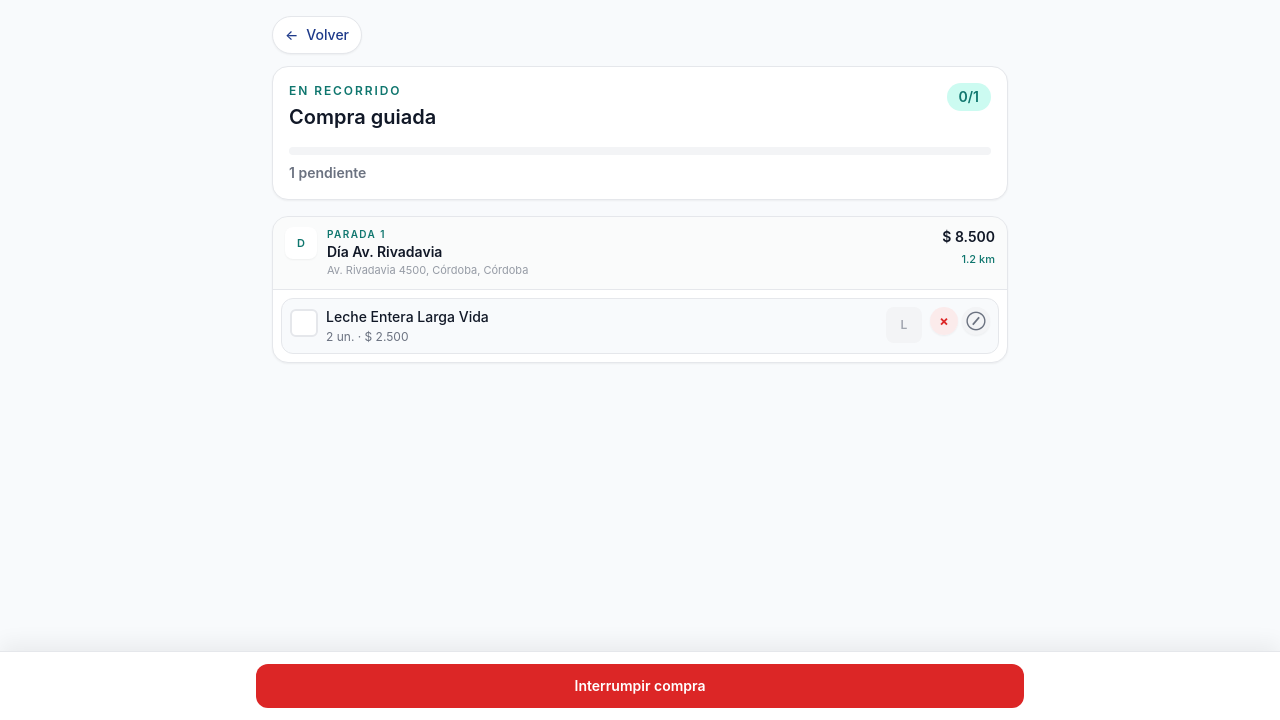
UI reference pages › shows missing item alternatives when product is not found
This screenshot has width=1280, height=720.
Check: the heading "Compra guiada" is shown, box [289,103,436,131]
Click the button named "marcar leche entera larga vida como no encontrado": [944, 320] box [930,306,958,334]
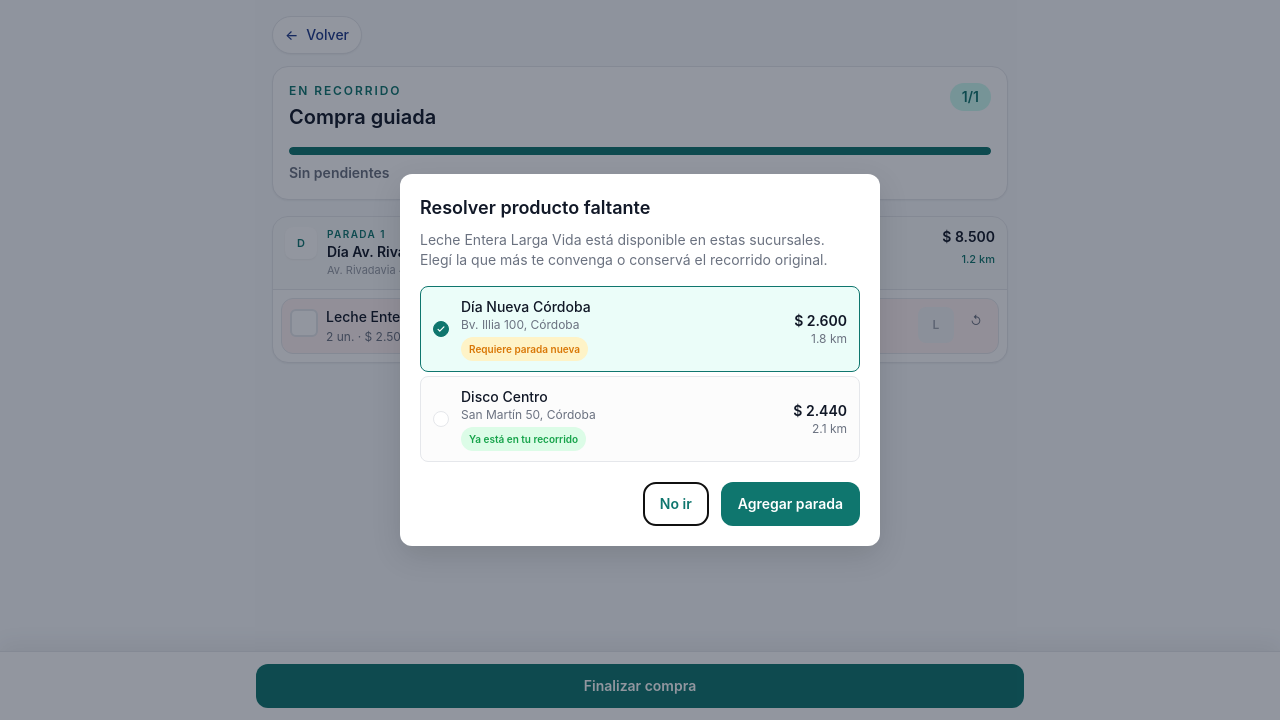
Check: the heading "Resolver producto faltante" is shown, box [420,197,650,218]
Check: the text "Ya está en tu recorrido" is shown, box [461,427,586,451]
Check: the text "Requiere parada nueva" is shown, box [461,337,588,361]
